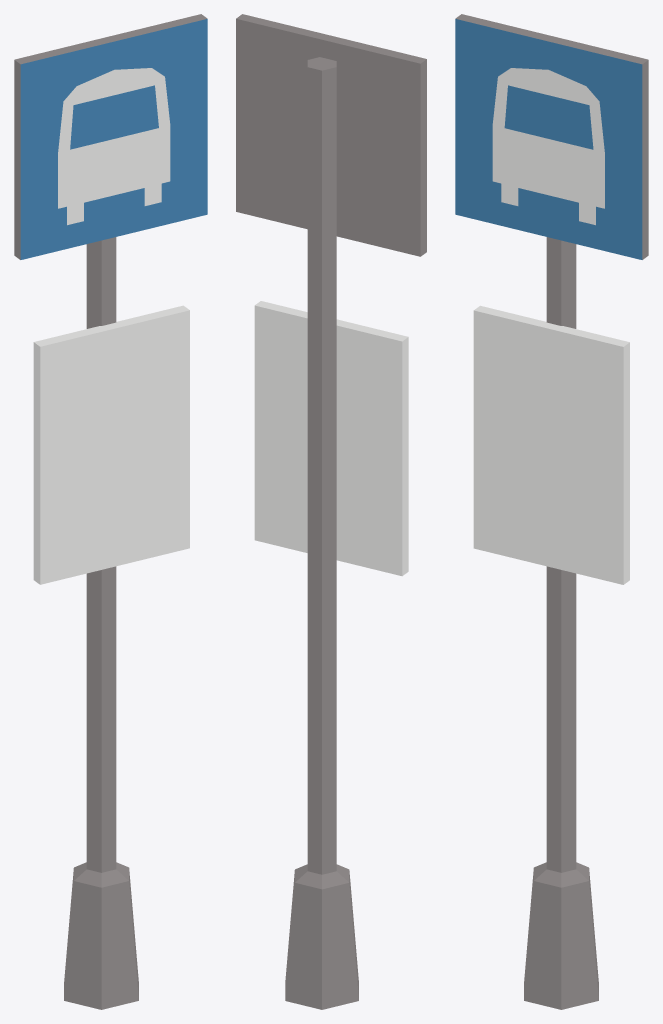
The model's file is bus-stop-sign.glb.
3 views of the same model, side by side, from view 1: azimuth 30°, elevation 25°; view 2: azimuth 150°, elevation 25°; view 3: azimuth 330°, elevation 25° (orthographic).
Visible parts, largest first — view 1: bus-stop-sign; view 2: bus-stop-sign; view 3: bus-stop-sign.
Part boxes in pixels (x1,y1,x2,y2): bus-stop-sign: [14, 14, 207, 1009]; bus-stop-sign: [236, 14, 426, 1009]; bus-stop-sign: [455, 14, 648, 1009].
Bounding box in the file's own units: 0.5001 × 2.45 × 0.1732.
Materials: 1 (1 with a texture image).
